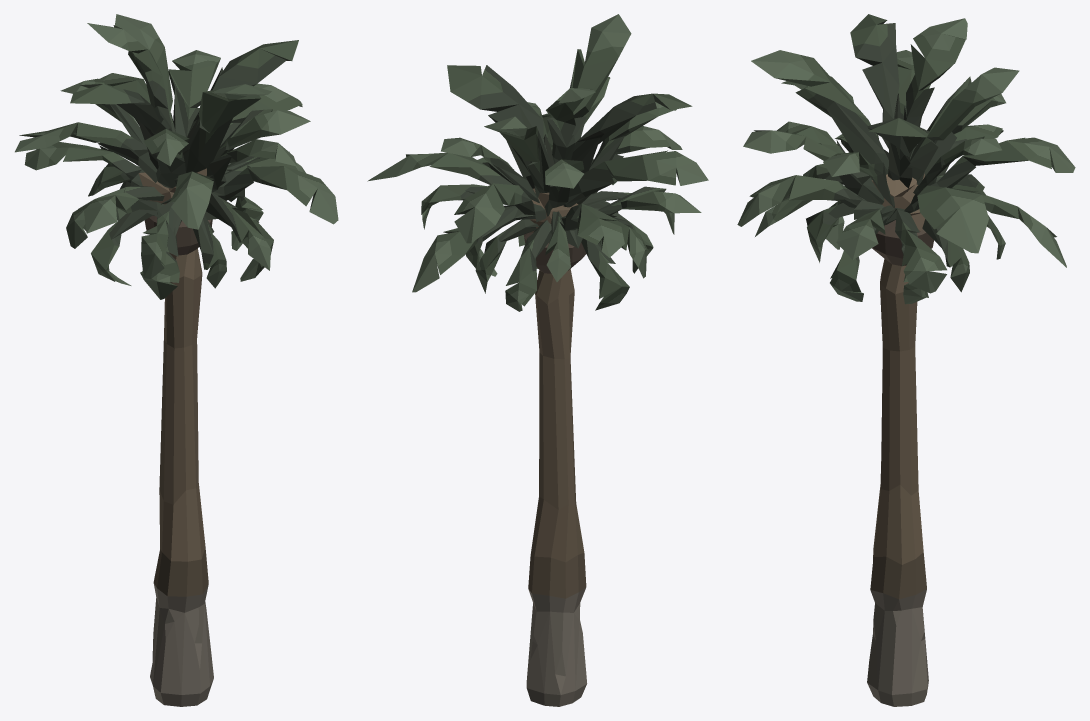
The model's file is SM_Env_Tree_Large_03.glb.
3 views of the same model, side by side, from view 1: azimuth 30°, elevation 25°; view 2: azimuth 150°, elevation 25°; view 3: azimuth 270°, elevation 25° (orthographic). The views are drawn at different scales.
Parts seen in each view (by area): view 1: SM_Env_Tree_Large_03; view 2: SM_Env_Tree_Large_03; view 3: SM_Env_Tree_Large_03.
Part boxes in pixels (<box>): SM_Env_Tree_Large_03: <box>15,14,338,706</box>; SM_Env_Tree_Large_03: <box>367,14,708,706</box>; SM_Env_Tree_Large_03: <box>737,14,1075,706</box>.
Bounding box in the file's own units: 7.71 × 15.38 × 7.21.
Materials: 1 (1 with a texture image).
